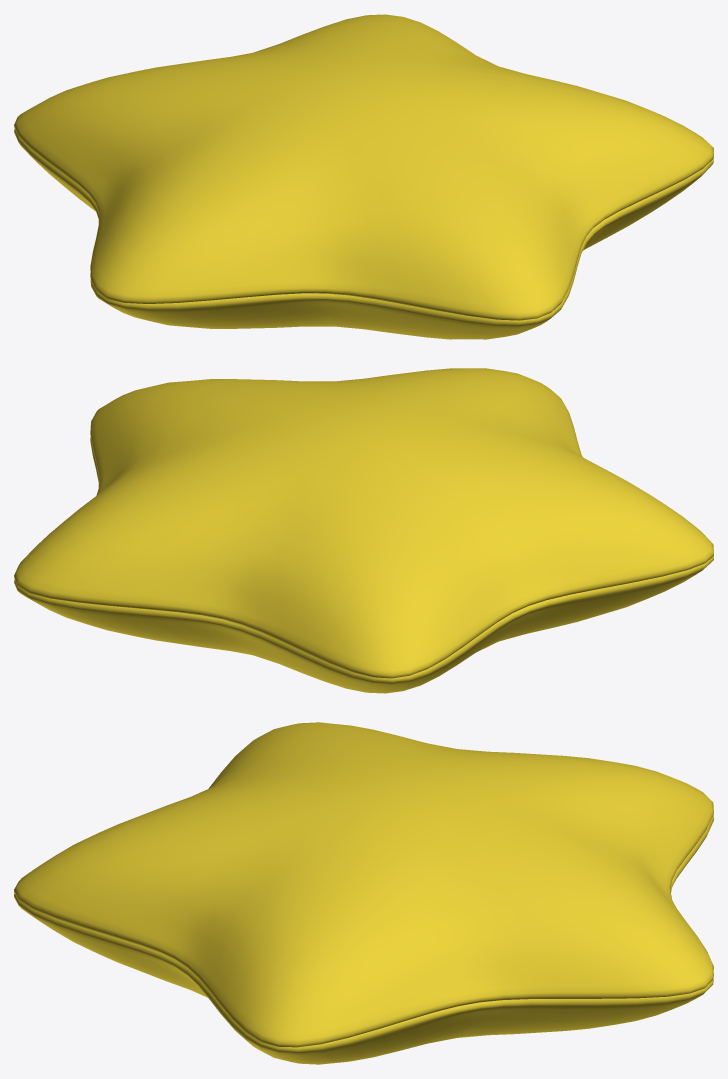
The model's file is Sketchfab_2022_08_09_17_29_57.fbx.
The picture shows the model from 3 angles, top to bottom: view 1: azimuth 30°, elevation 25°; view 2: azimuth 150°, elevation 25°; view 3: azimuth 270°, elevation 25°; orthographic projection. The views are drawn at different scales.
Visible parts, largest first — view 1: Circle; view 2: Circle; view 3: Circle.
Boxes of the visible parts, left/top/right/bottom form: Circle: left=14, top=14, right=713, bottom=339; Circle: left=14, top=368, right=713, bottom=693; Circle: left=14, top=722, right=713, bottom=1064.
Bounding box in the file's own units: 162 × 50.25 × 156.
